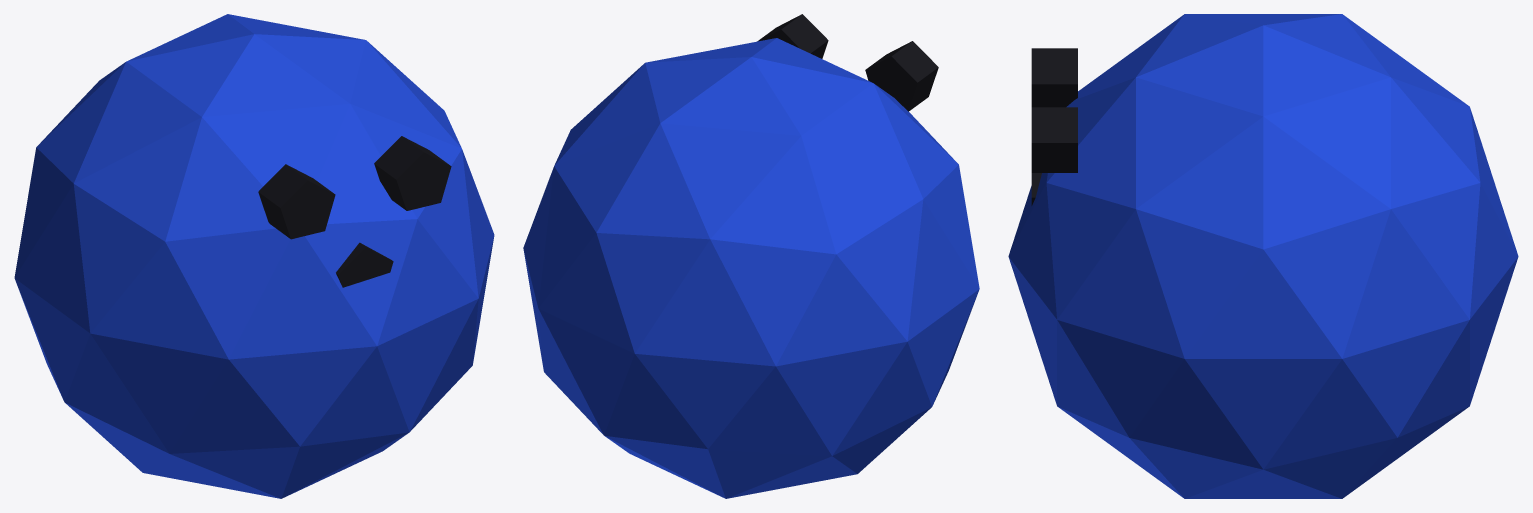
File: bowling_ball_blue.glb
3 views of the same model, side by side, from view 1: azimuth 30°, elevation 25°; view 2: azimuth 150°, elevation 25°; view 3: azimuth 270°, elevation 25° (orthographic). The views are drawn at different scales.
Parts seen in each view (by area): view 1: bowling_ball_blue; view 2: bowling_ball_blue; view 3: bowling_ball_blue.
Boxes of the visible parts, x1,y1,x2,y2 form: bowling_ball_blue: (14,14,494,498); bowling_ball_blue: (523,14,979,498); bowling_ball_blue: (1008,14,1518,498).
Bounding box in the file's own units: 0.2092 × 0.22 × 0.22.
